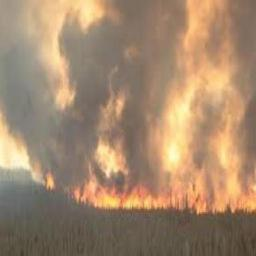Heavy smoke: (8, 6, 256, 198)
Large fire: (34, 91, 256, 221)
